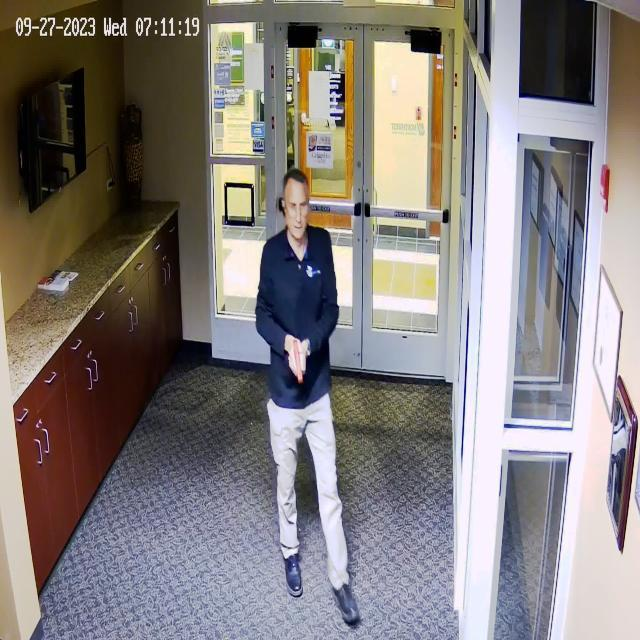Gun: (274, 330, 318, 390)
